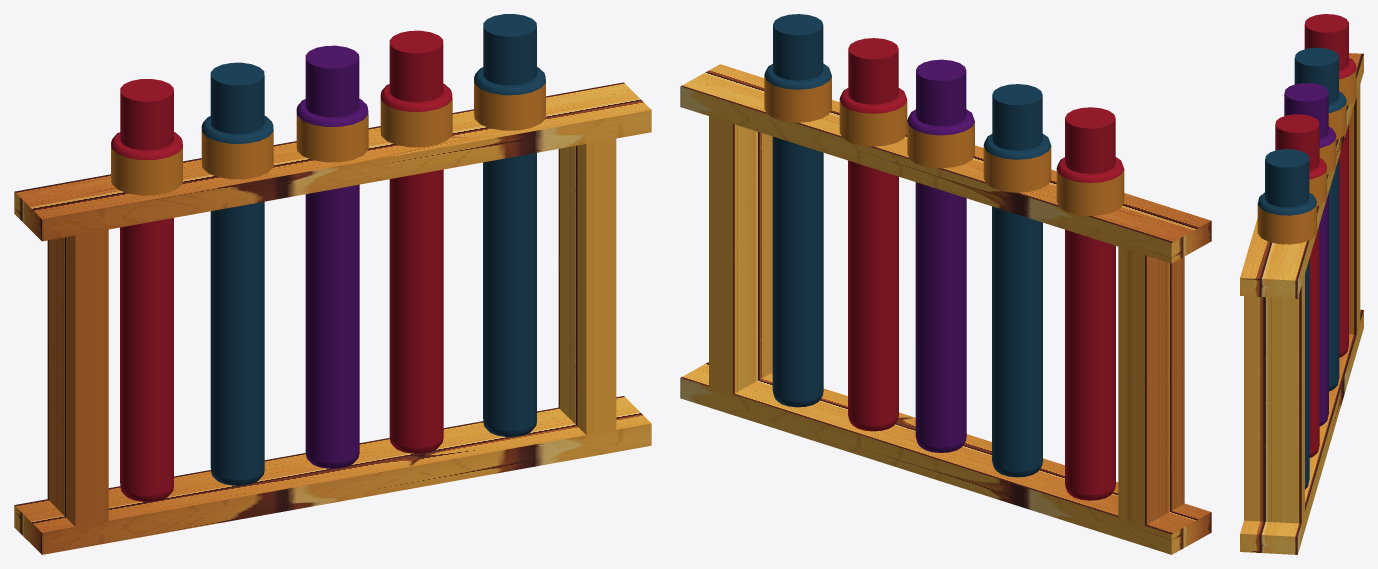
Rendered from Prop_Laboratorio_BaseProbetas.fbx.
3 views of the same model, side by side, from view 1: azimuth 30°, elevation 25°; view 2: azimuth 150°, elevation 25°; view 3: azimuth 270°, elevation 25° (orthographic). The views are drawn at different scales.
Visible parts, largest first — view 1: Circle.028; view 2: Circle.028; view 3: Circle.028.
Part boxes in pixels (bbox=[...]): Circle.028: bbox=[14, 14, 651, 554]; Circle.028: bbox=[680, 14, 1211, 554]; Circle.028: bbox=[1240, 14, 1363, 554].
Size of the model in its own units: 488 by 345 by 111.
